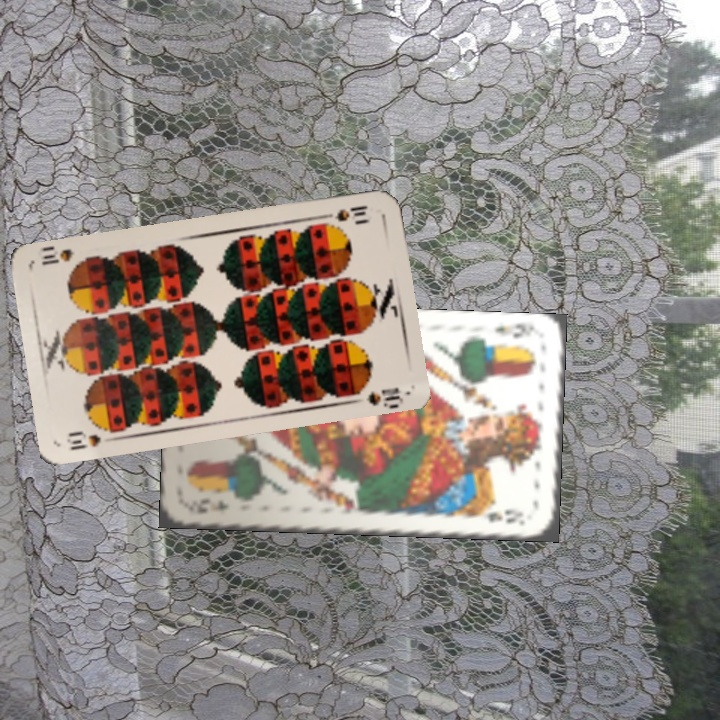EK: (490, 320, 540, 341), (190, 494, 231, 515)
S10: (62, 428, 120, 453), (332, 201, 370, 224)
